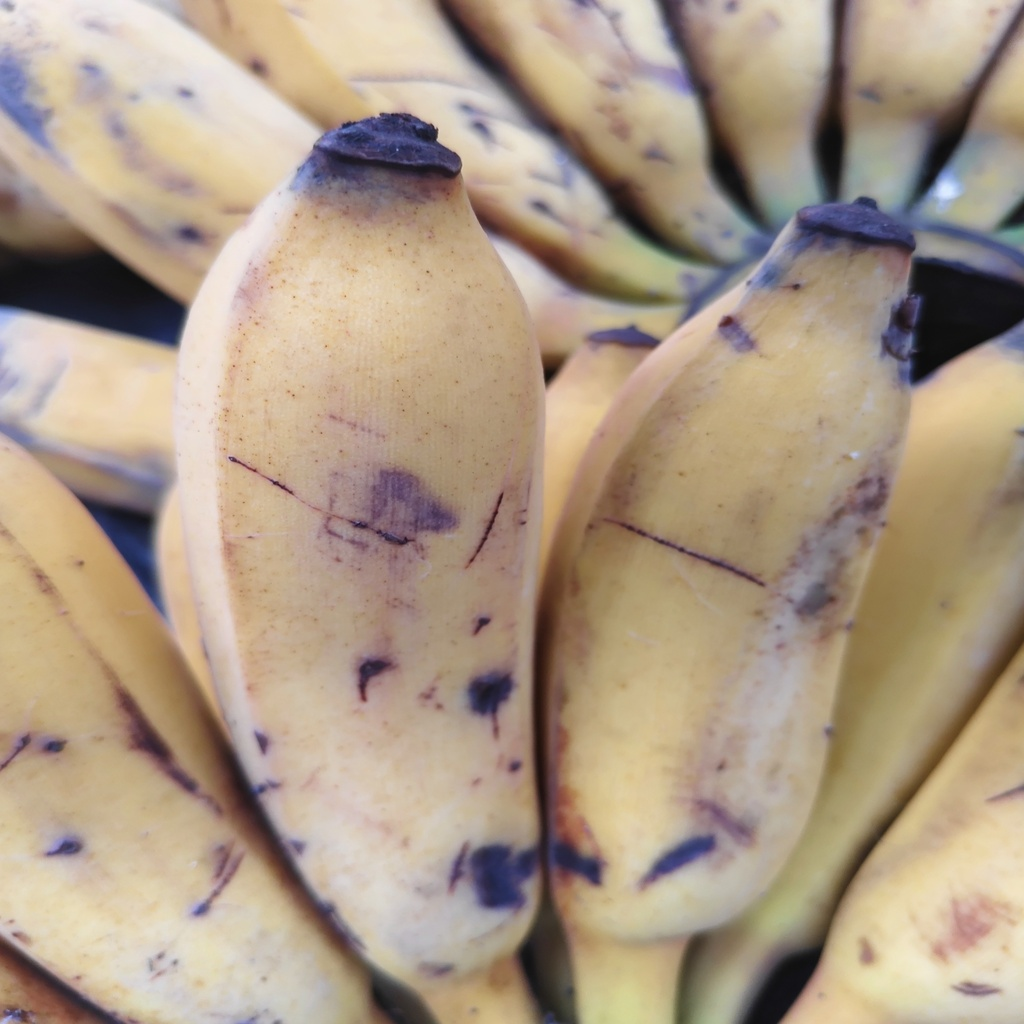healthy: (178, 139, 549, 966), (535, 213, 918, 939)
